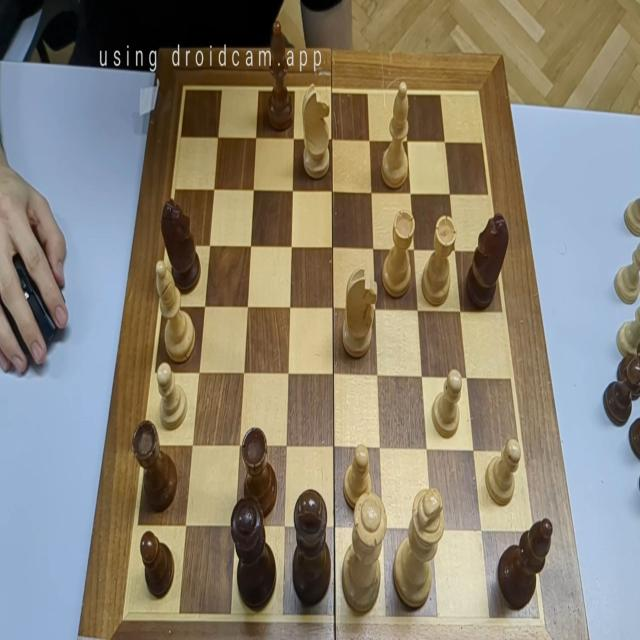black_bishop: (498, 518, 553, 610), (268, 20, 294, 132)
black_king: (293, 489, 331, 606)
black_knight: (466, 213, 509, 309), (161, 198, 201, 295)
black_pawn: (140, 530, 174, 598)
black_queen: (230, 495, 276, 611)
black_rook: (132, 421, 178, 512), (242, 428, 277, 518)
white_bishop: (156, 260, 196, 362), (381, 82, 409, 190)
white_king: (393, 488, 445, 608)
white_knight: (342, 266, 378, 358), (302, 83, 330, 180)
white_pawn: (485, 439, 521, 507), (432, 369, 462, 438), (157, 362, 187, 430), (343, 444, 371, 510)
white_queen: (342, 491, 387, 613)
white_rook: (421, 215, 457, 306), (382, 210, 415, 298)
